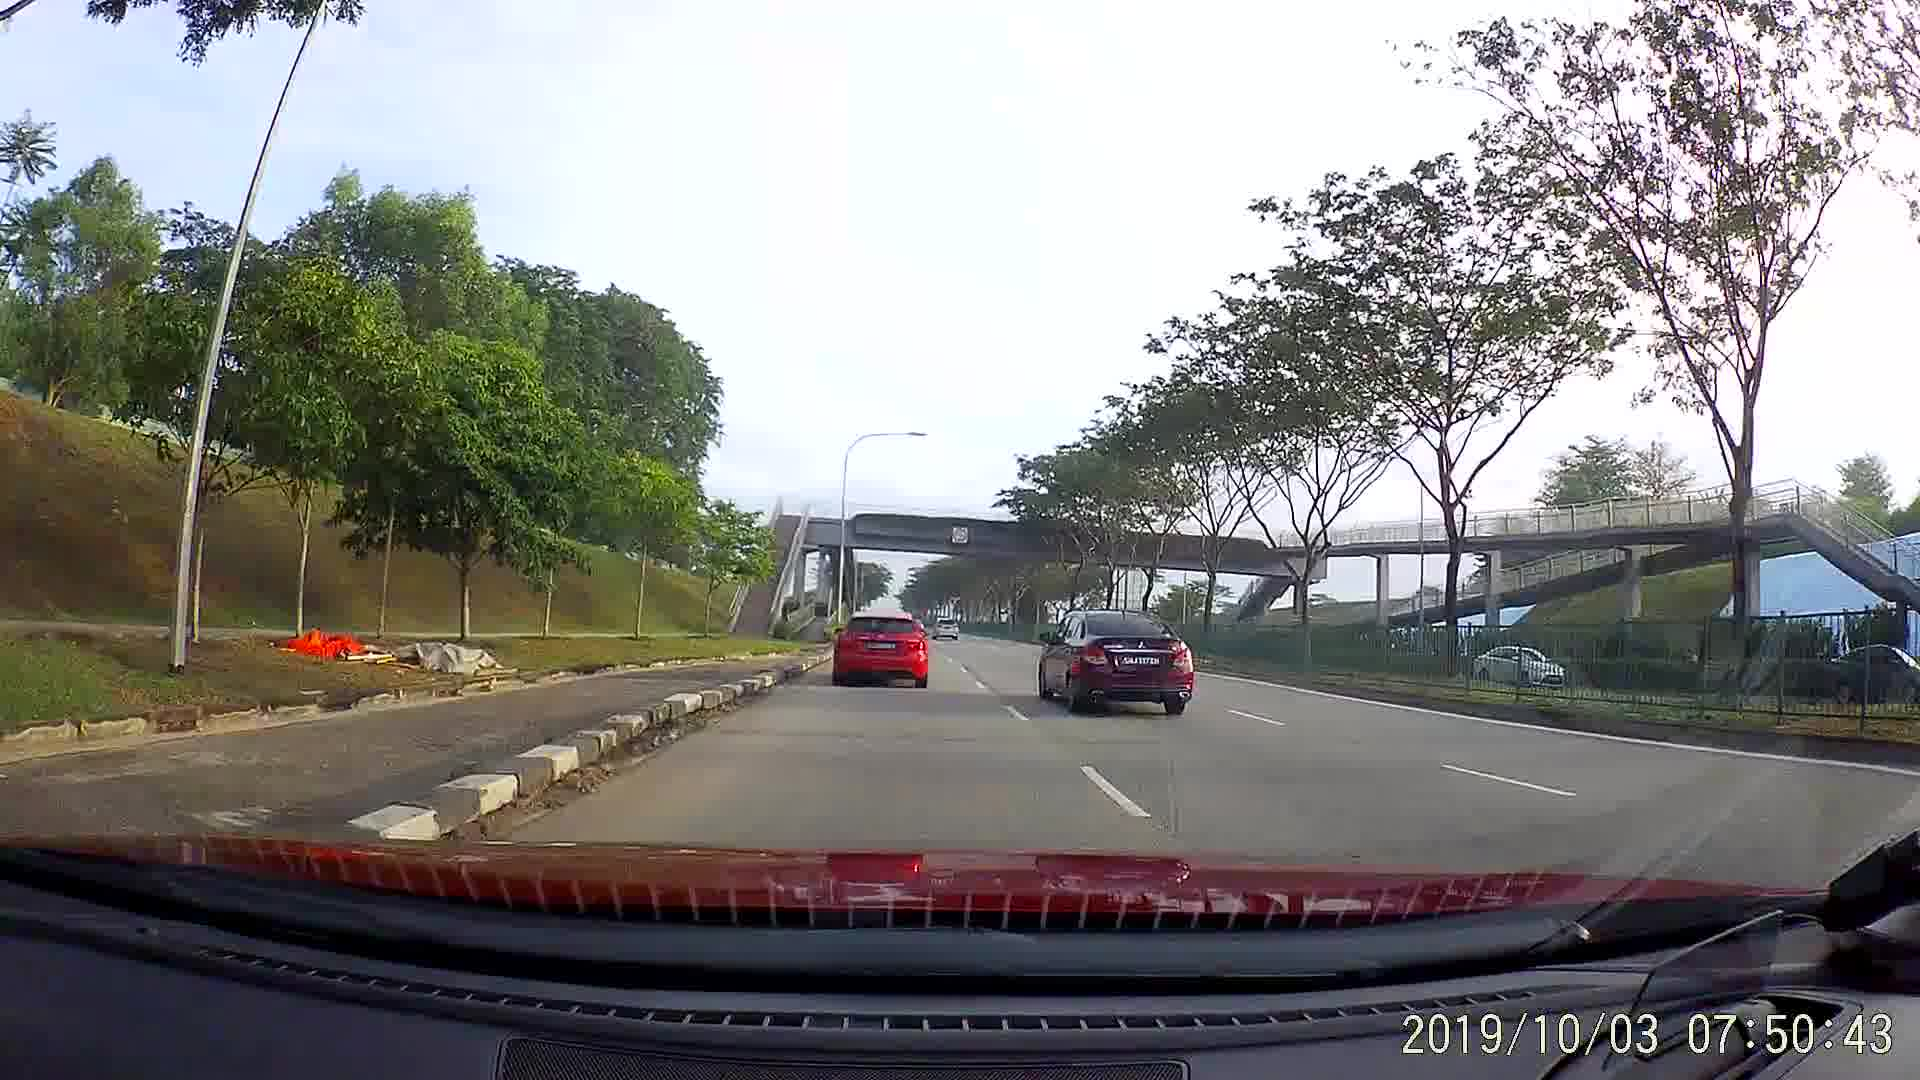car: (1031, 608, 1195, 715), (829, 611, 931, 688), (1805, 644, 1913, 702), (1466, 641, 1571, 694), (928, 616, 960, 647)
